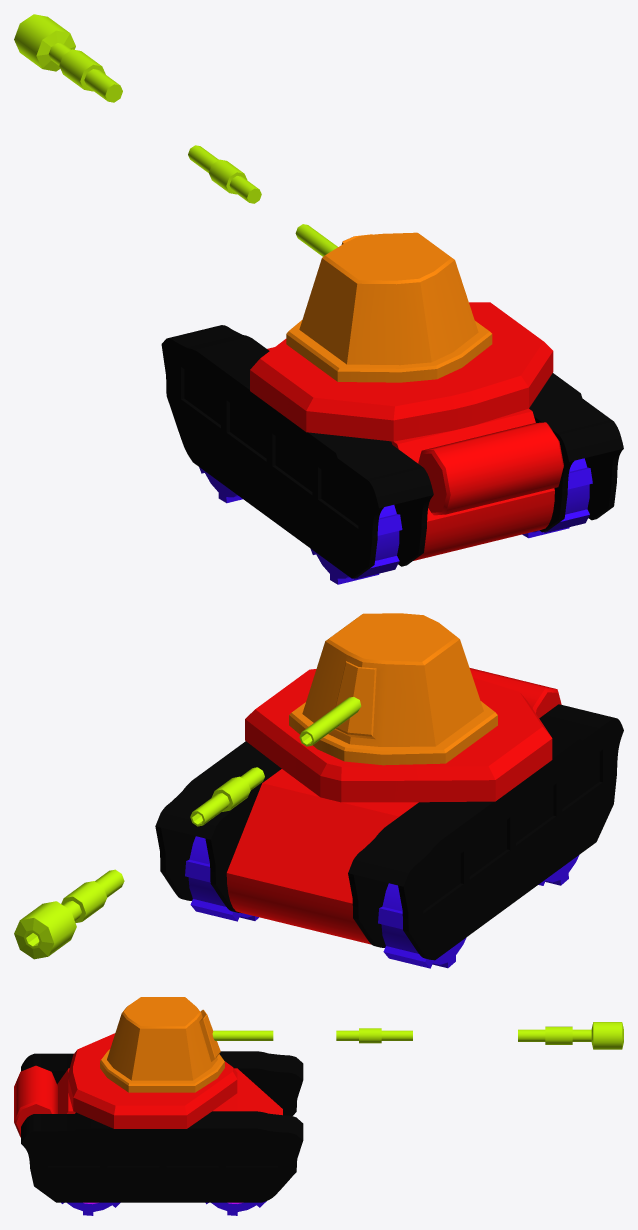
The model's file is A12 Matilda CDL.fbx.
The picture shows the model from 3 angles, top to bottom: view 1: azimuth 30°, elevation 25°; view 2: azimuth 150°, elevation 25°; view 3: azimuth 270°, elevation 25°; orthographic projection. The views are drawn at different scales.
Visible parts, largest first — view 1: Body, Turret, Canon002, Wheels (×2), Canon001; view 2: Body, Turret, Wheels (×2), Canon002, Canon001, Canon; view 3: Body, Turret, Canon002, Canon001, Wheels (×2), Canon.
Part boxes in pixels (<box>): Body: <box>161,302,623,578</box>; Turret: <box>286,232,492,382</box>; Canon002: <box>14,14,122,102</box>; Wheels (×2): <box>310,458,592,584</box>; Canon001: <box>188,145,261,203</box>; Body: <box>155,668,623,960</box>; Turret: <box>289,613,497,765</box>; Wheels (×2): <box>185,836,466,968</box>; Canon002: <box>14,869,124,959</box>; Canon001: <box>190,767,264,826</box>; Canon: <box>299,697,361,746</box>; Body: <box>14,1033,303,1202</box>; Turret: <box>100,997,224,1092</box>; Canon002: <box>518,1022,623,1049</box>; Canon001: <box>336,1028,412,1043</box>; Wheels (×2): <box>61,1201,266,1215</box>; Canon: <box>212,1030,273,1040</box>.
Bounding box in the file's own units: 2.15 × 2.14 × 7.09.
